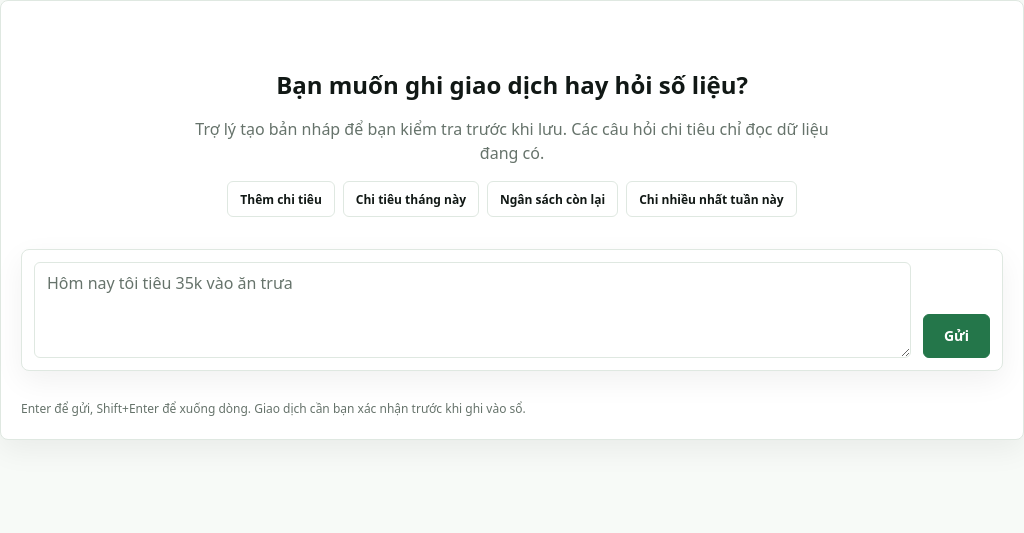
insight chat UI › automatic spending selection accepts total spending questions
Type "Tháng này tôi đã chi tổng cộng bao nhiêu?" into the text box named "Chat to ledger message" at (472, 310), box [34,262,911,358]
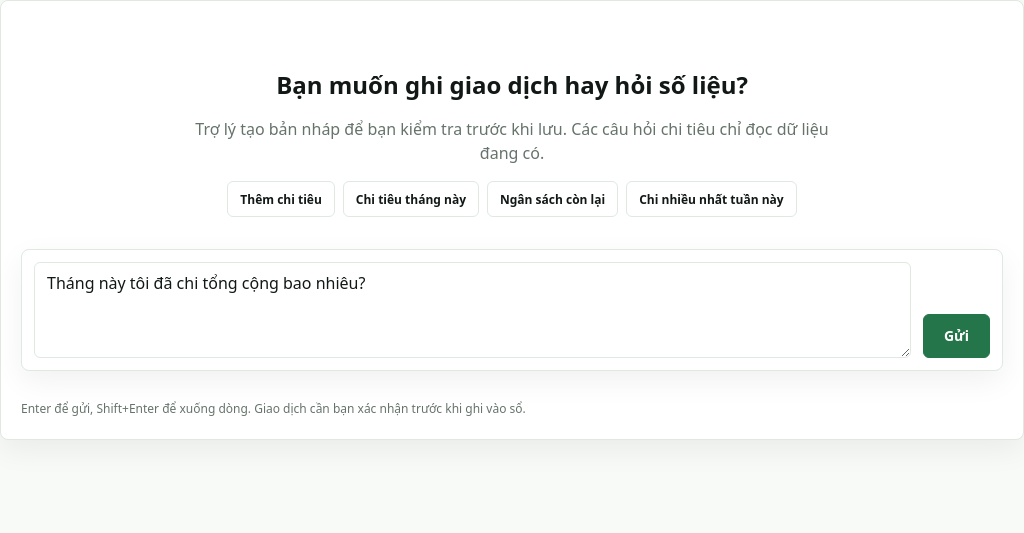
Click the button "Gửi" at (956, 336), box [923,314,990,358]
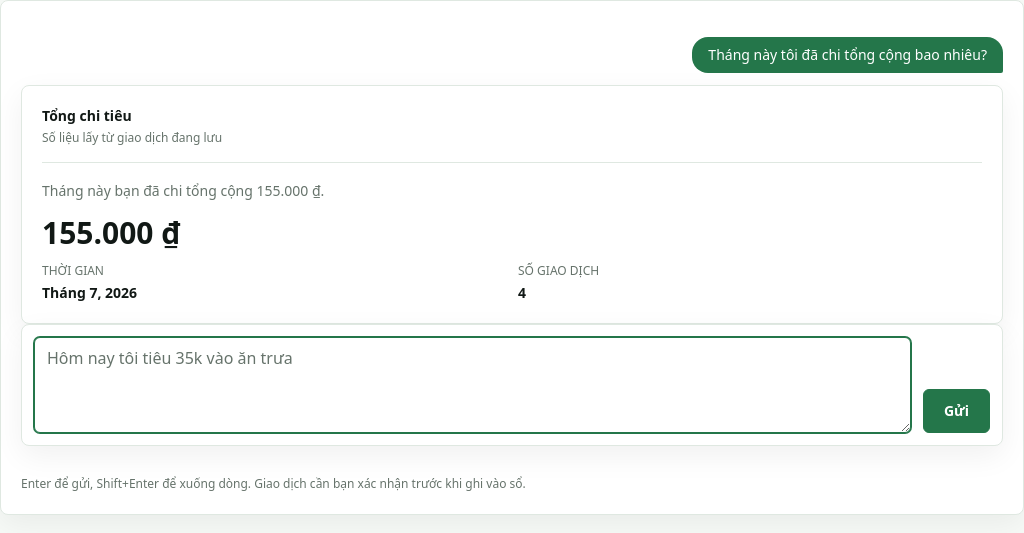
Now the heading "Tổng chi tiêu" is shown, box [42,106,132,125]
Now the text "Tháng 7, 2026" is shown, box [42,283,137,302]
